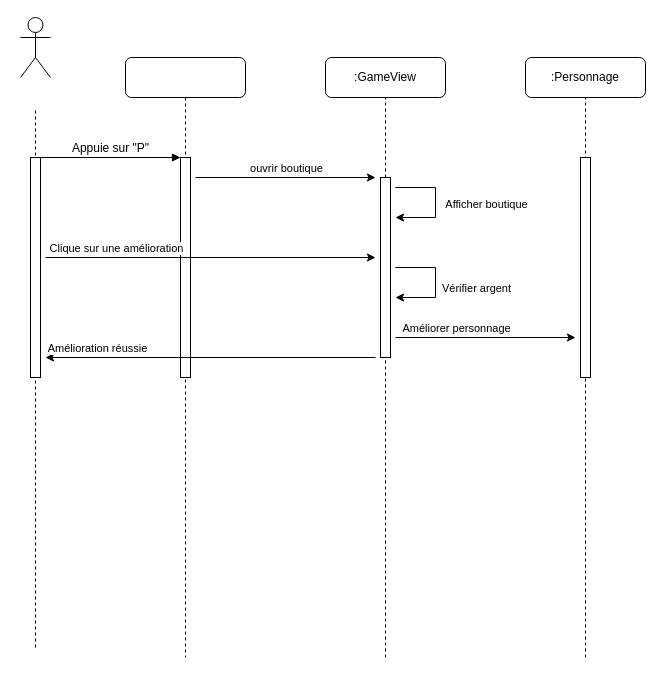
This 663x676 diagram has some shape labels left out. The shapes that lost their labels are listed below. From the top down, each one's box as (x1, y1, x2, y2) in pixels, then its label:
(20, 16, 50, 78): Joueur
(124, 56, 246, 658): :PlayerControlListener
